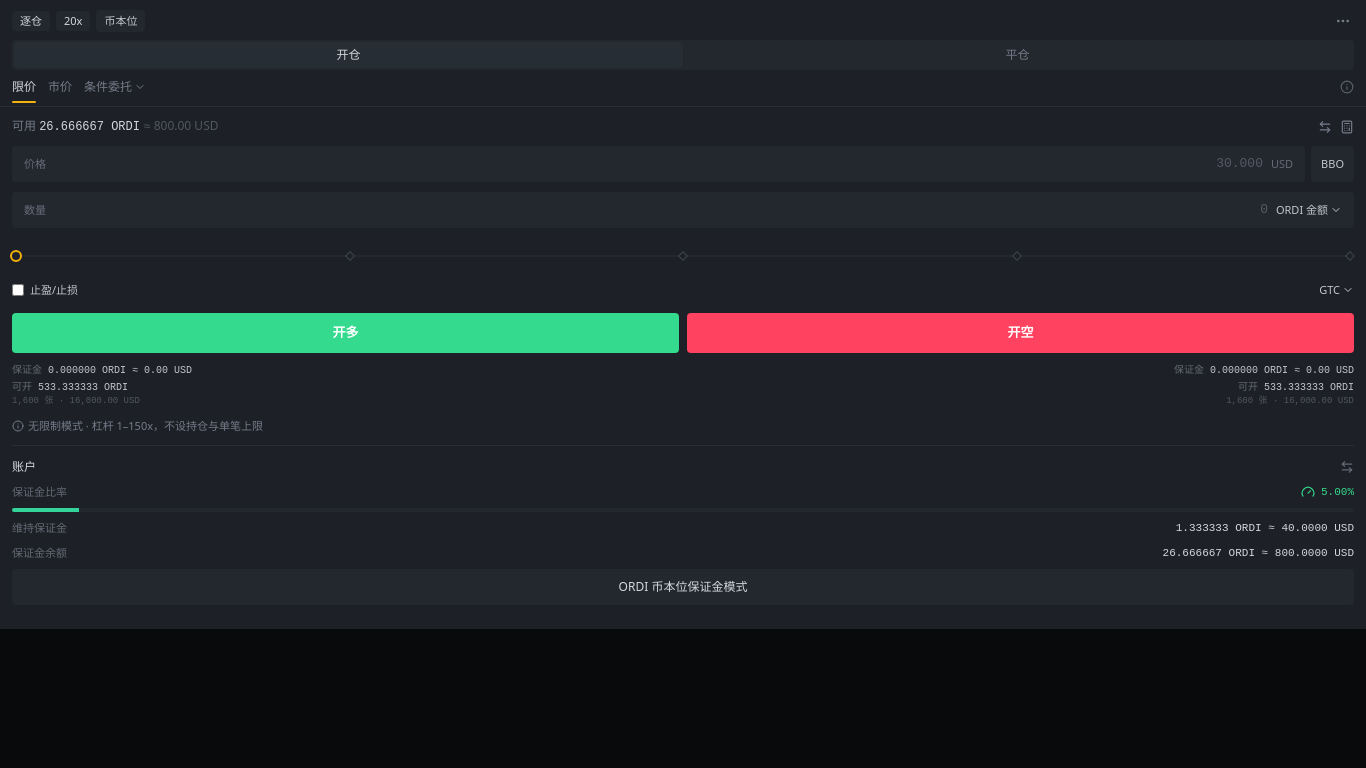
Test: 下单面板：可用余额与引擎同一个口径 › 无限制：「可开」= 可用 × 杠杆（800 × 20 = 16,000 USD = 1,600 张），不再少算那 500 的逐仓保证金
The image size is (1366, 768).
Click the button "市价" at (60, 90), box [48,78,72,102]
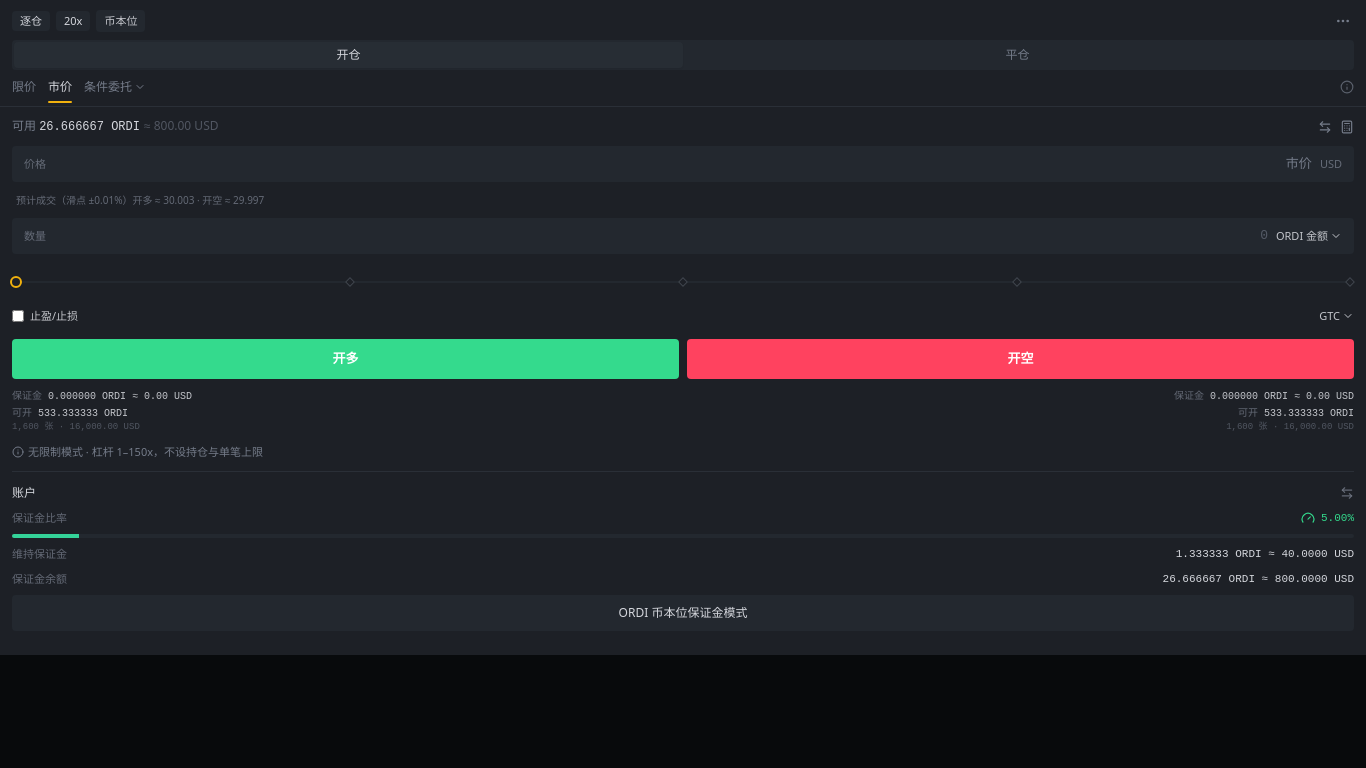
Click the button with test id "unit-preference-trigger" at (1309, 236), box [1276,228,1342,244]
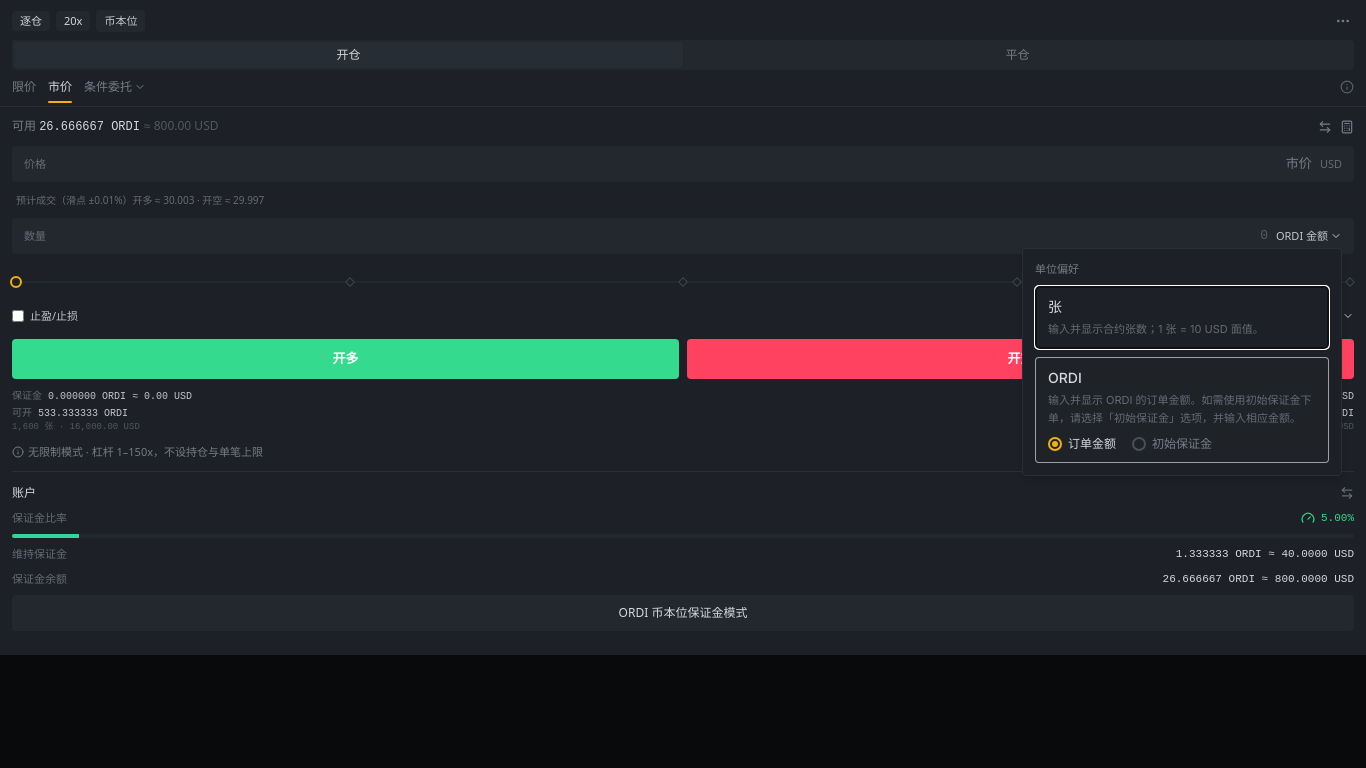
Click the button with test id "unit-card-CONTRACTS" at (1156, 328), box [1035,286,1329,349]
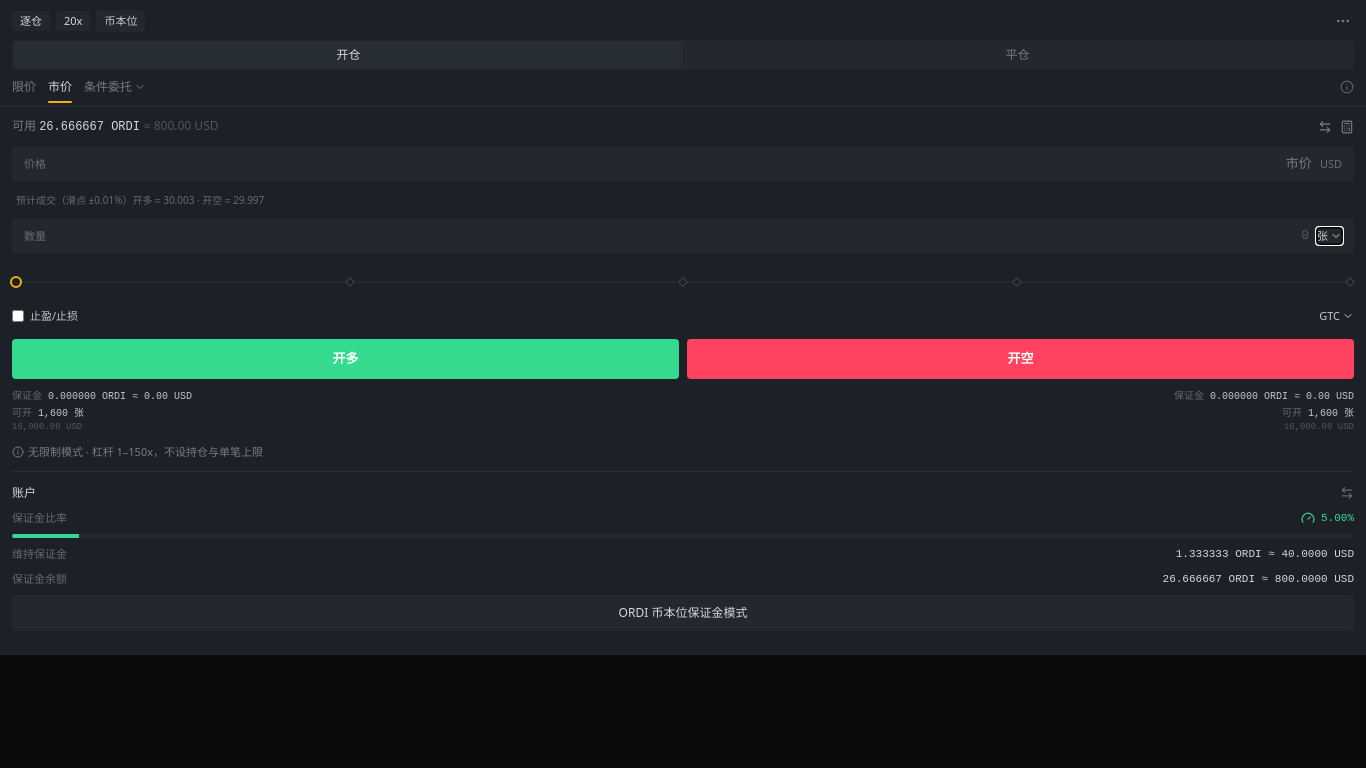
Now the text with test id "max-open-LONG-main" shows "1,600", box [38,408,84,418]
